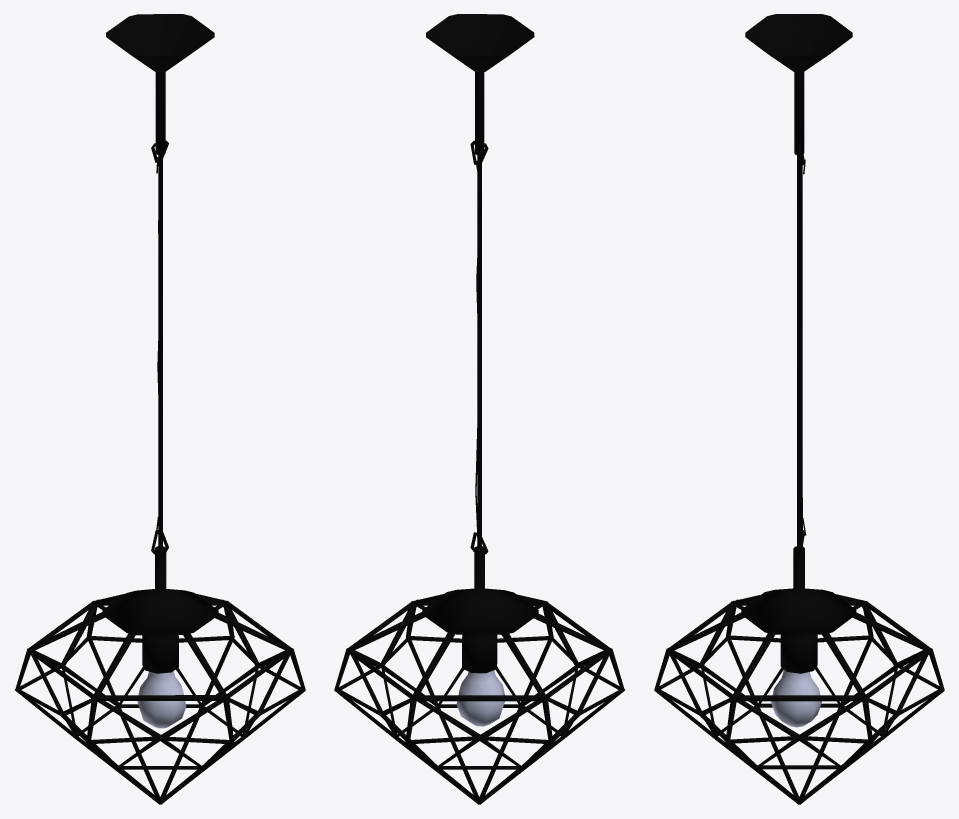
Rendered from SM_Pendantlight_013_B.FBX.
3 renders of one model, left to right at view 1: azimuth 30°, elevation 25°; view 2: azimuth 150°, elevation 25°; view 3: azimuth 270°, elevation 25°, orthographic.
Parts seen in each view (by area): view 1: SM_Pendantlight_013_B; view 2: SM_Pendantlight_013_B; view 3: SM_Pendantlight_013_B.
Boxes of the visible parts, box(x1,y1,x2,y2) form: SM_Pendantlight_013_B: box(15, 14, 305, 804); SM_Pendantlight_013_B: box(334, 14, 625, 804); SM_Pendantlight_013_B: box(654, 14, 944, 804).
Size of the model in its own units: 23.91 by 27.45 by 80.13.
